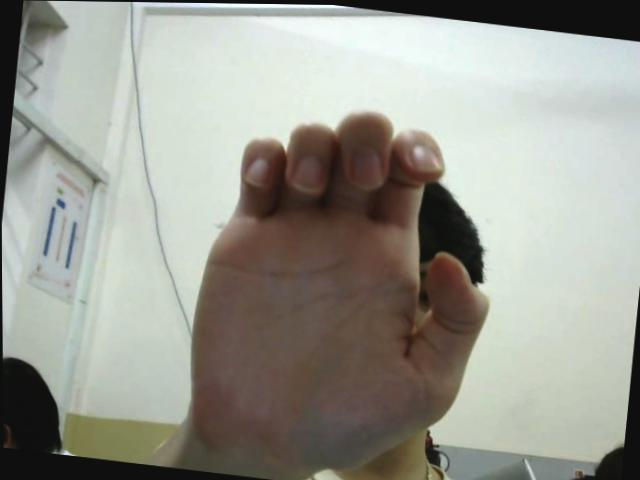E: (175, 89, 510, 480)
